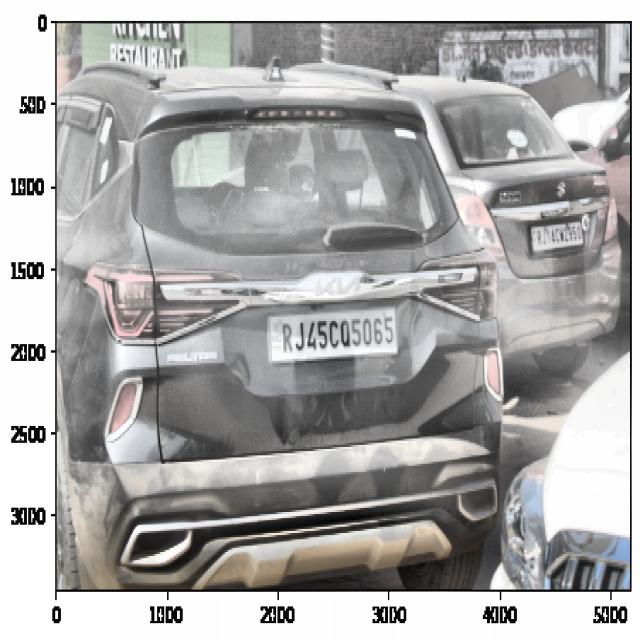license_plate: (275, 313, 398, 361)
